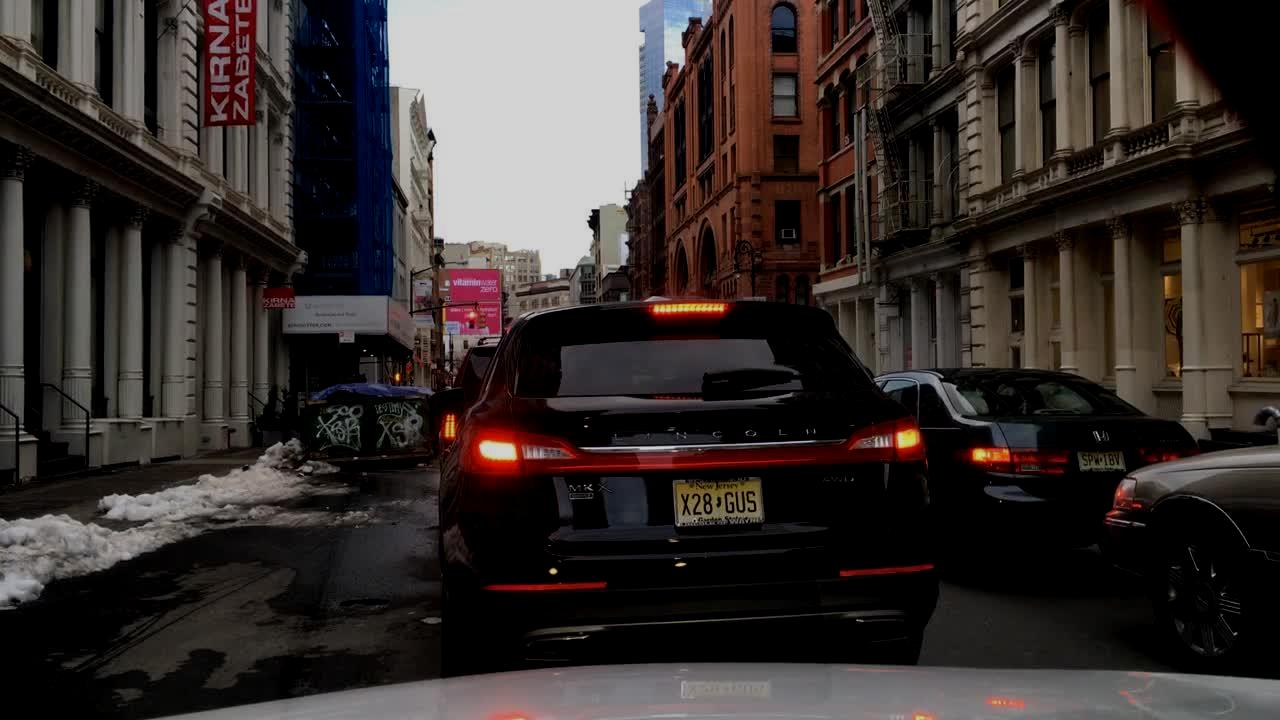Honda: (1086, 422, 1116, 447)
lincoln: (600, 418, 850, 448)
